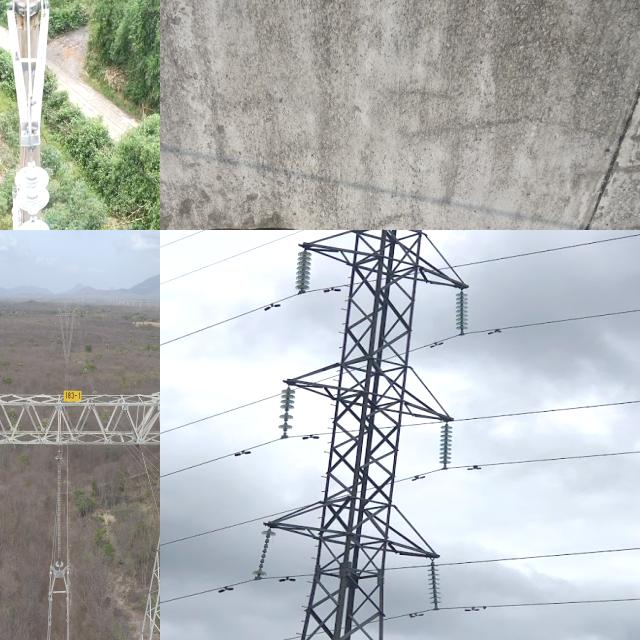杆塔: (248, 230, 479, 640), (0, 278, 160, 640)
正常绝缘子: (12, 148, 57, 230), (270, 378, 301, 440), (288, 243, 319, 301), (433, 412, 458, 475), (424, 554, 446, 619), (252, 528, 277, 580), (453, 289, 474, 344)
电缆破损: (160, 79, 583, 230)
绝缘子破损: (26, 211, 38, 224), (264, 534, 271, 540), (263, 540, 270, 546), (259, 561, 266, 567), (283, 418, 289, 424), (262, 547, 268, 553), (284, 409, 290, 414), (260, 555, 266, 560)
